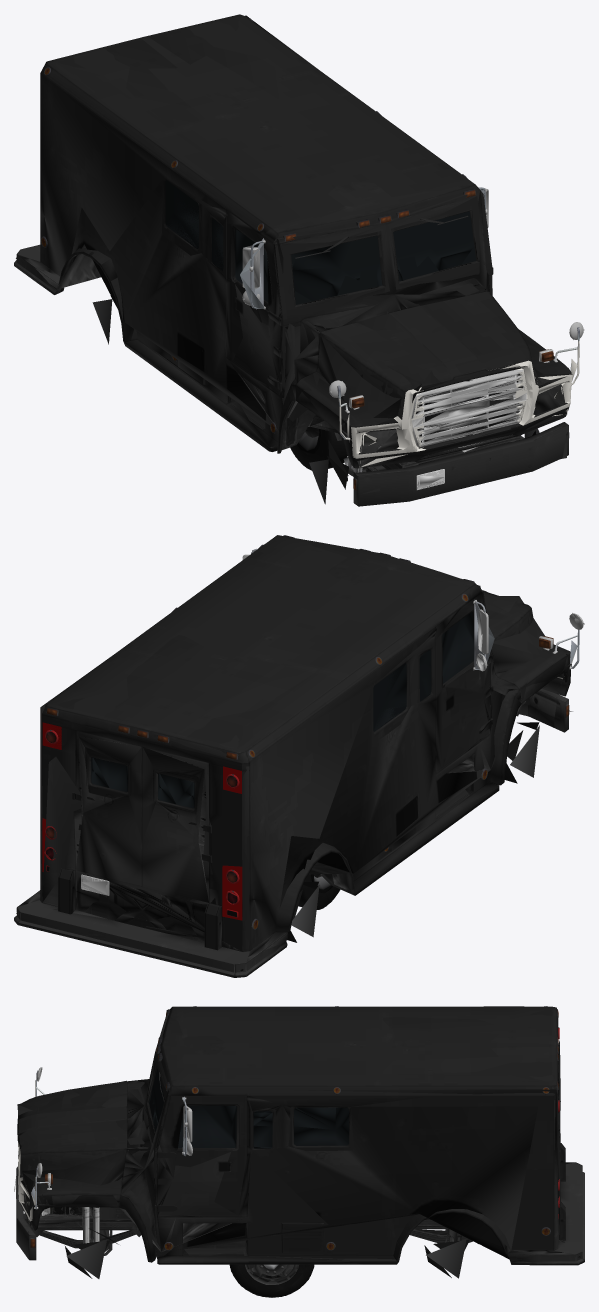
File: truck8.glb
3 views of the same model, one above another, from view 1: azimuth 30°, elevation 25°; view 2: azimuth 150°, elevation 25°; view 3: azimuth 270°, elevation 25° (orthographic). The views are drawn at different scales.
Parts seen in each view (by area): view 1: body0, body1, body2, wheel0, wheel1; view 2: body0, body2, body1; view 3: body0, body2, body1, wheel0, wheel1.
Part boxes in pixels (x1,y1,x2,y2): body0: (14, 14, 583, 506); body1: (14, 16, 580, 506); body2: (16, 15, 584, 504); wheel0: (290, 426, 347, 470); wheel1: (290, 426, 346, 470); body0: (14, 535, 583, 977); body2: (16, 549, 584, 971); body1: (14, 535, 583, 977); body0: (16, 1006, 584, 1265); body2: (14, 1009, 580, 1278); body1: (16, 1006, 584, 1265); wheel0: (229, 1264, 314, 1297); wheel1: (230, 1264, 313, 1297).
Size of the model in its own units: 2.69 by 3.04 by 6.32.
Materials: 6 (3 with a texture image).
